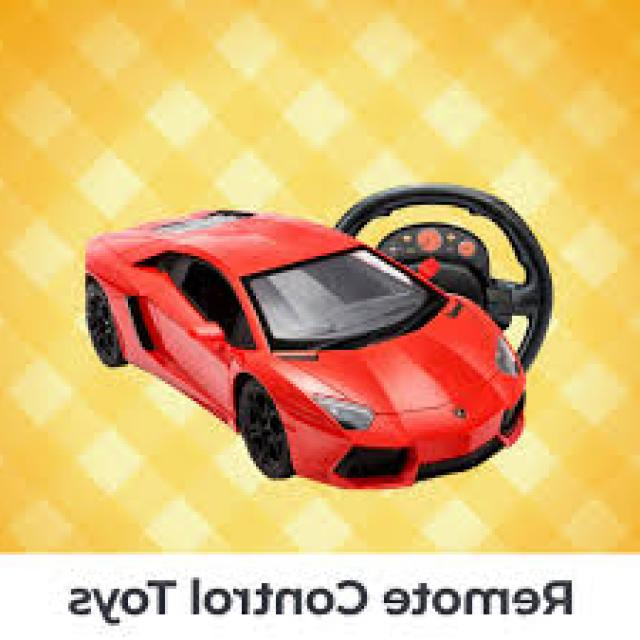Car: (85, 182, 555, 489)
